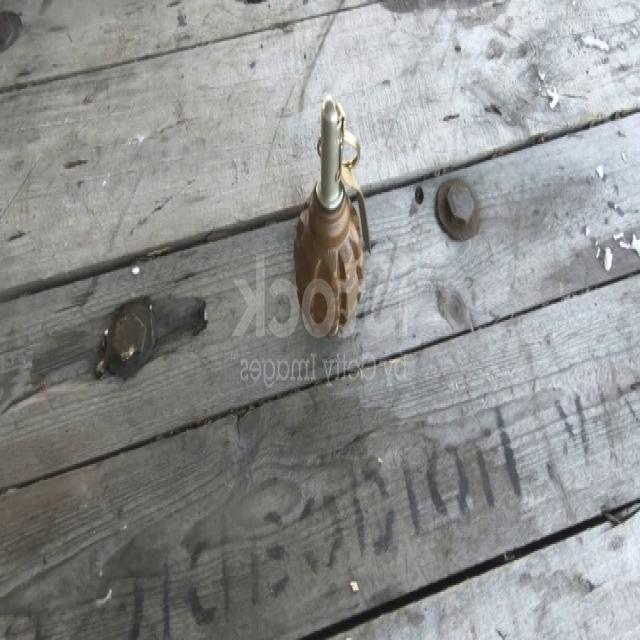grenade: (294, 91, 372, 348)
